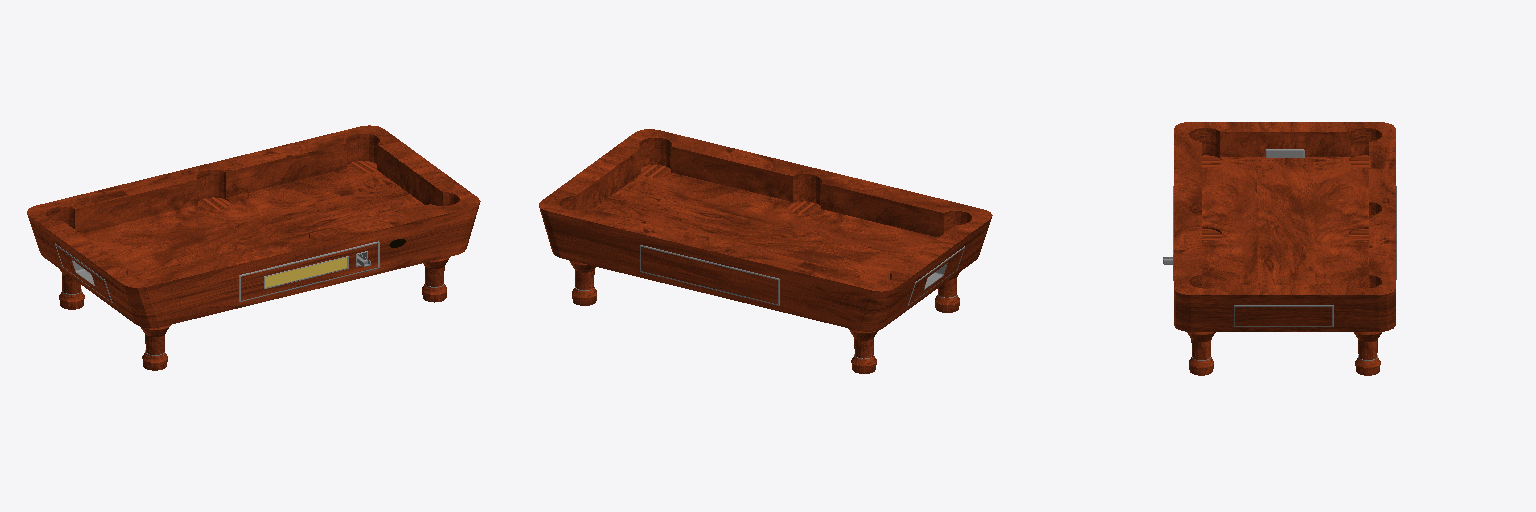
The picture shows the model from 3 angles: view 1: azimuth 30°, elevation 25°; view 2: azimuth 150°, elevation 25°; view 3: azimuth 270°, elevation 25°; orthographic projection.
Parts seen in each view (by area): view 1: ChamferBox001, Cylinder006, Box003, Cylinder009, Cylinder007, ChamferBox008; view 2: ChamferBox001, Cylinder007, Cylinder008, Cylinder006; view 3: ChamferBox001, Cylinder008, Cylinder009.
Part boxes in pixels (bbox=[...]): ChamferBox001: bbox=[27, 125, 480, 327]; Cylinder006: bbox=[141, 325, 170, 370]; Box003: bbox=[265, 257, 346, 287]; Cylinder009: bbox=[422, 257, 449, 302]; Cylinder007: bbox=[59, 269, 84, 309]; ChamferBox008: bbox=[239, 241, 379, 301]; ChamferBox001: bbox=[539, 129, 992, 331]; Cylinder007: bbox=[848, 328, 878, 373]; Cylinder008: bbox=[569, 260, 596, 305]; Cylinder006: bbox=[935, 272, 959, 312]; ChamferBox001: bbox=[1174, 122, 1395, 331]; Cylinder008: bbox=[1354, 332, 1381, 375]; Cylinder009: bbox=[1187, 332, 1215, 375].
Size of the model in its own units: 111 by 28.25 by 62.79.
Materials: 4 (1 with a texture image).